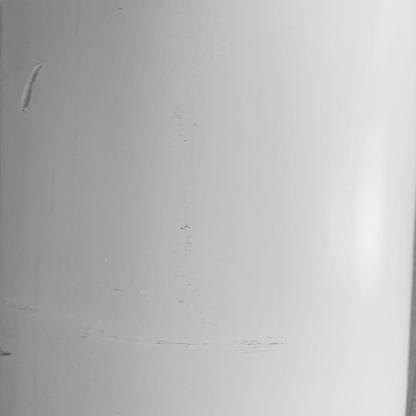sunshang: (20, 65, 44, 115)
